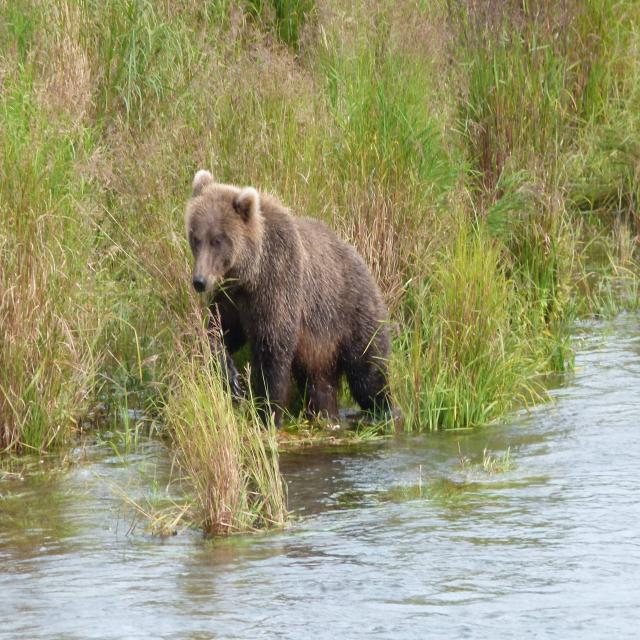bear face: (185, 169, 391, 414)
